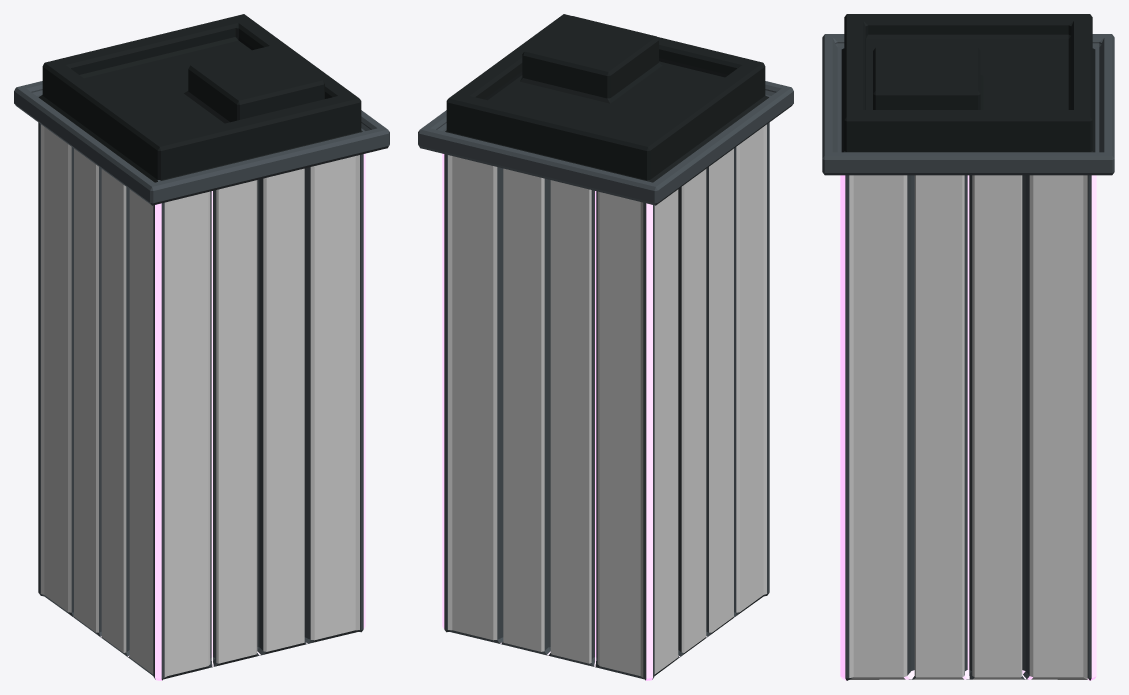
Rendered from Home1.fbx.
3 views of the same model, side by side, from view 1: azimuth 30°, elevation 25°; view 2: azimuth 150°, elevation 25°; view 3: azimuth 270°, elevation 25° (orthographic). The views are drawn at different scales.
Parts seen in each view (by area): view 1: Cube; view 2: Cube; view 3: Cube.
Boxes of the visible parts, <box> form: Cube: <box>14,14,389,680</box>; Cube: <box>418,14,793,680</box>; Cube: <box>822,14,1114,680</box>.
Size of the model in its own units: 349 by 759 by 349.
